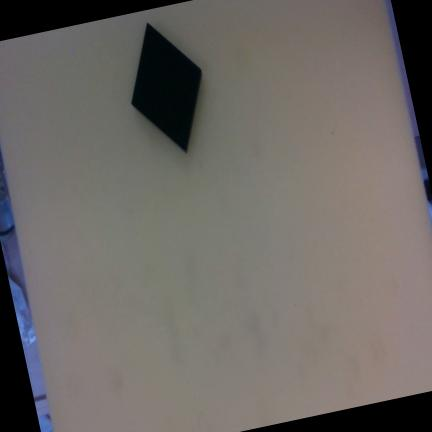tile: (125, 24, 209, 154)
